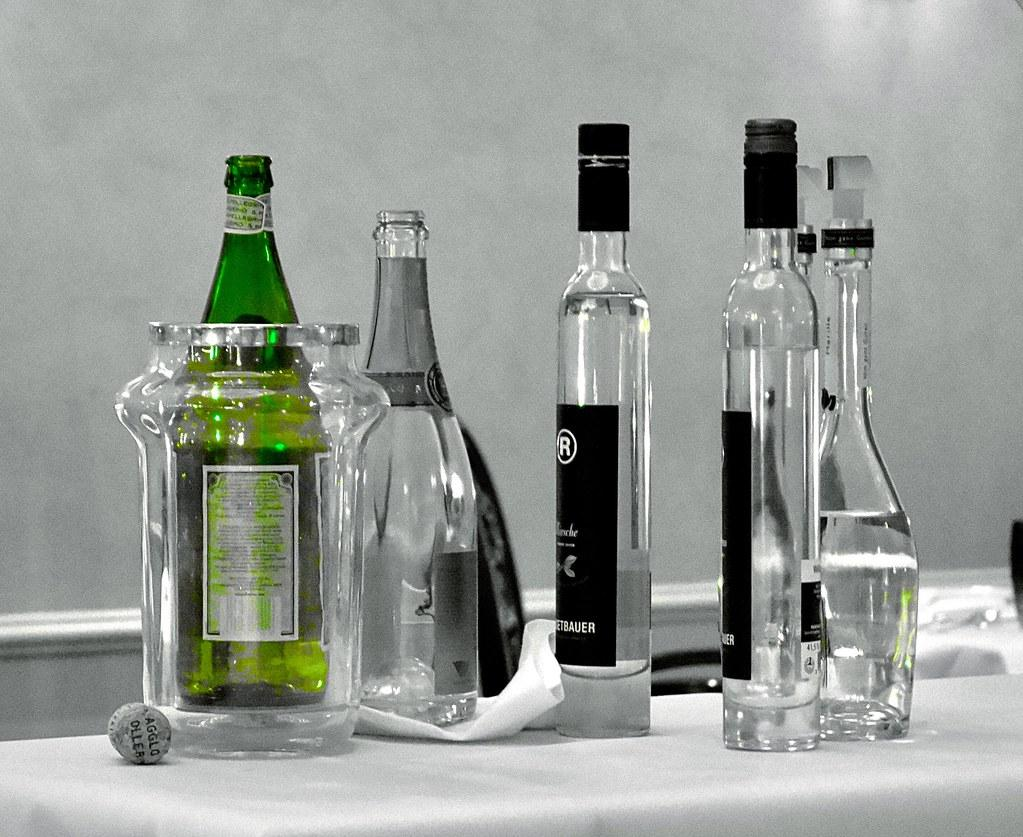bottle: (114, 320, 392, 760), (164, 154, 333, 708), (720, 118, 823, 753), (357, 209, 481, 728), (553, 123, 653, 738), (817, 155, 920, 742)
